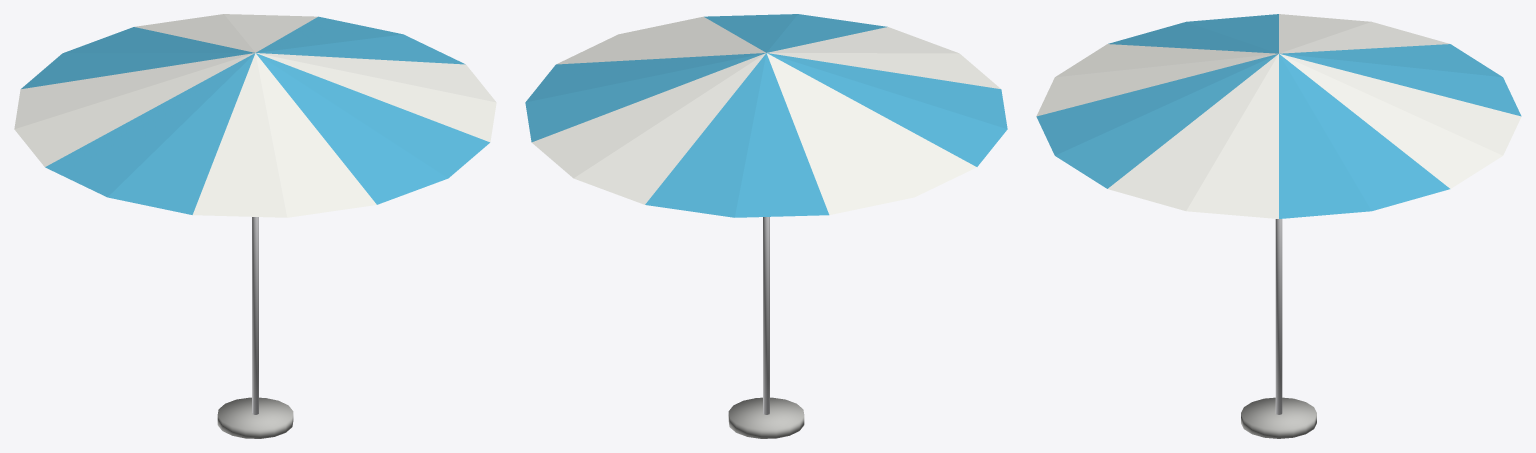
The model's file is parasol.glb.
3 views of the same model, side by side, from view 1: azimuth 30°, elevation 25°; view 2: azimuth 150°, elevation 25°; view 3: azimuth 270°, elevation 25° (orthographic).
Parts seen in each view (by area): view 1: parasol; view 2: parasol; view 3: parasol.
Part boxes in pixels (x1=…): parasol: x1=14, y1=14, x2=496, y2=438; parasol: x1=525, y1=14, x2=1007, y2=438; parasol: x1=1036, y1=14, x2=1521, y2=438.
Size of the model in its own units: 2.8 by 2.35 by 2.8.
